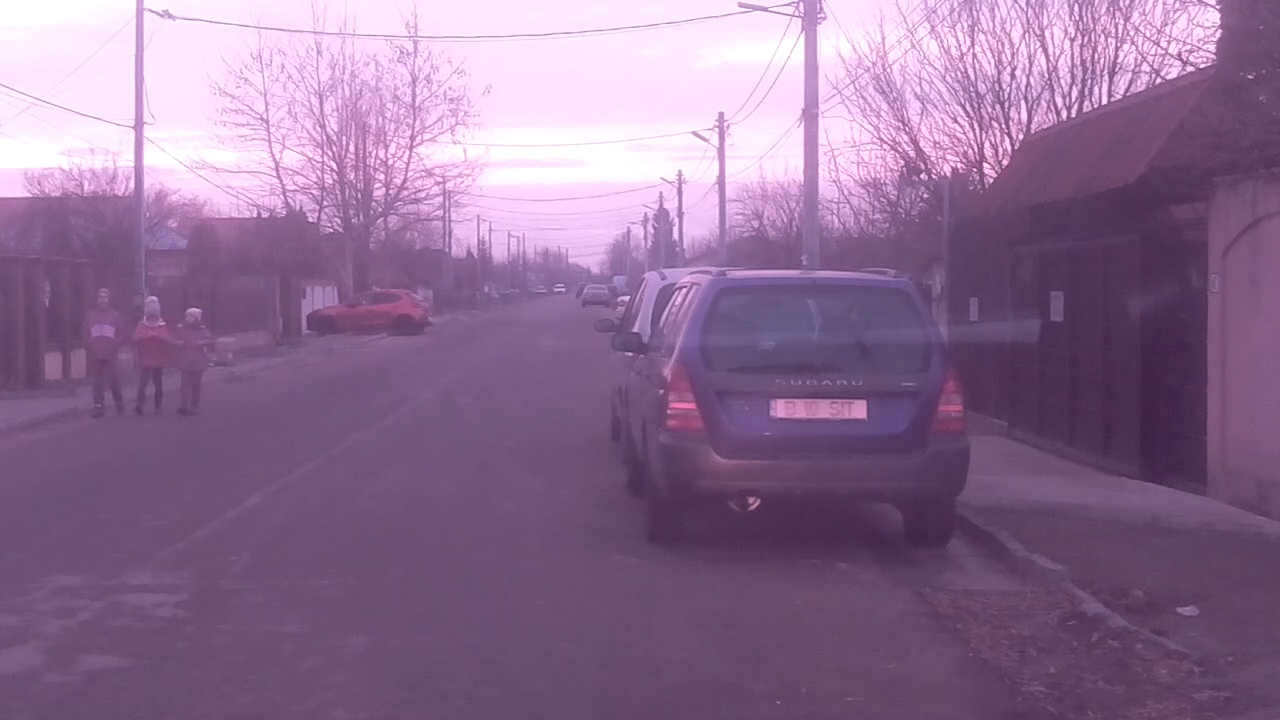license-plate: (768, 396, 869, 420)
